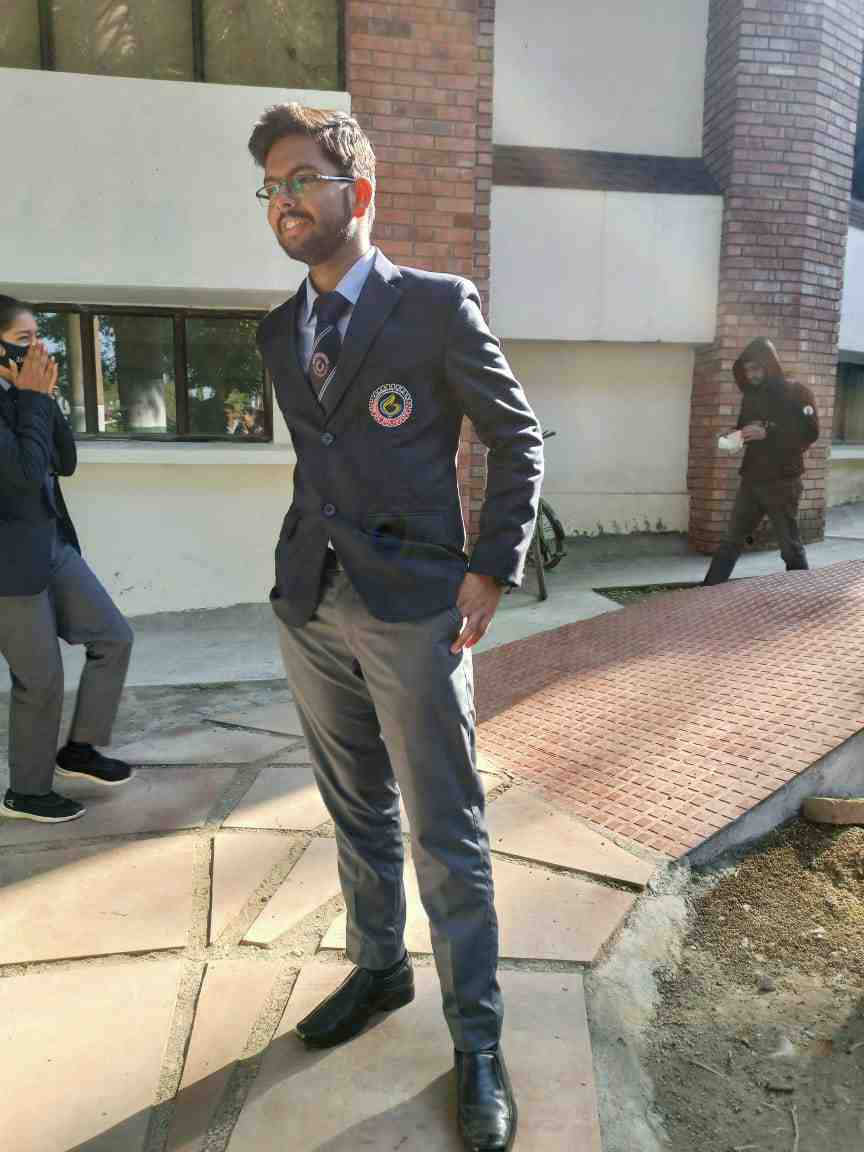blazer: (259, 243, 544, 624), (1, 391, 74, 592)
pant: (277, 576, 522, 1056), (10, 536, 136, 794)
tie: (300, 293, 349, 404)
